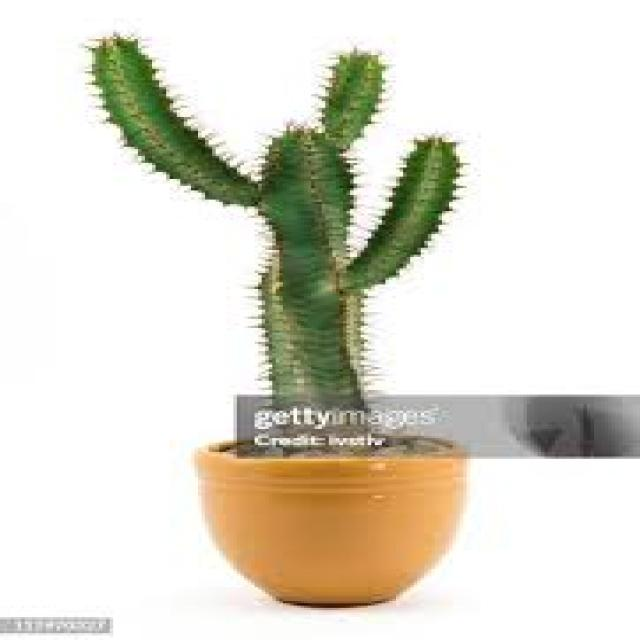cactus: (62, 9, 513, 353)
